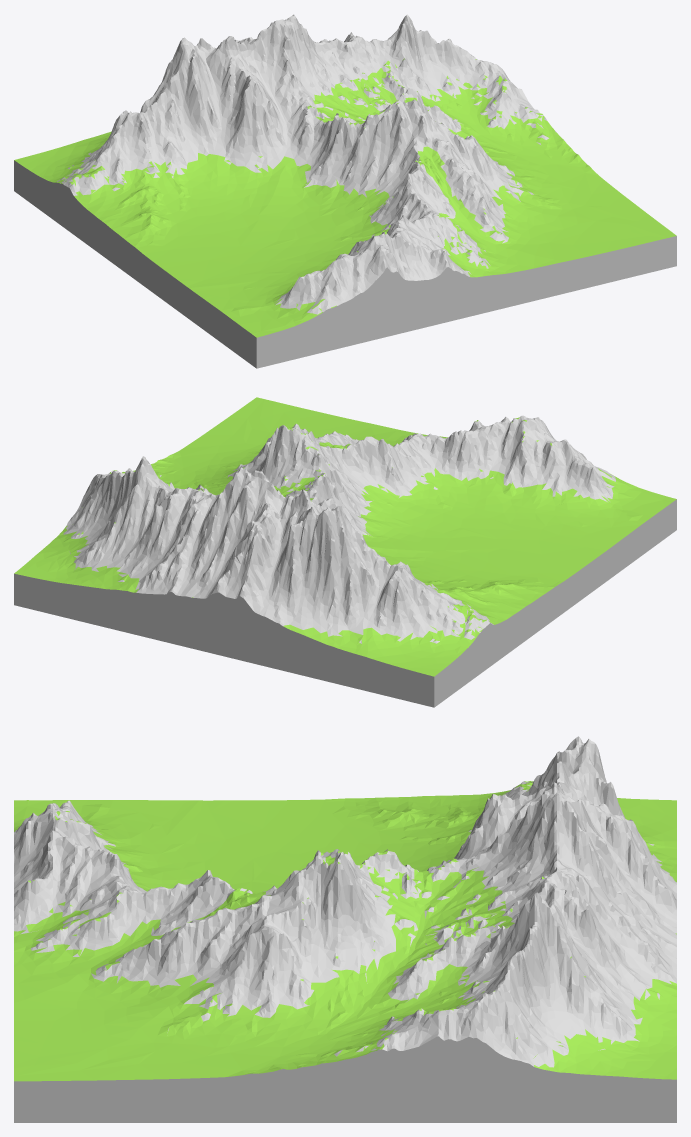
The model's file is mountain.glb.
3 views of the same model, one above another, from view 1: azimuth 30°, elevation 25°; view 2: azimuth 150°, elevation 25°; view 3: azimuth 270°, elevation 25° (orthographic). The views are drawn at different scales.
Visible parts, largest first — view 1: Plane; view 2: Plane; view 3: Plane.
Boxes of the visible parts, x1,y1,x2,y2 form: Plane: [14, 14, 676, 368]; Plane: [14, 397, 676, 707]; Plane: [14, 736, 676, 1122].
Bounding box in the file's own units: 5.27 × 1.8 × 5.27.
